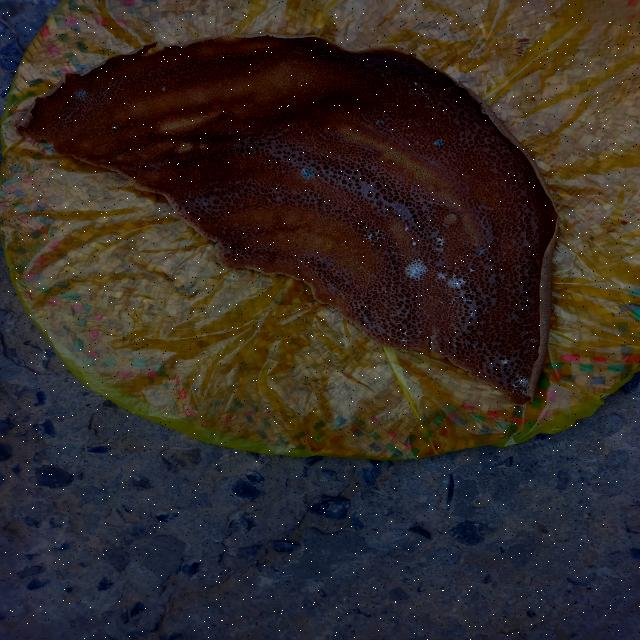injera_mold: (403, 258, 427, 284), (366, 226, 387, 246), (448, 274, 468, 291), (513, 374, 530, 394), (300, 166, 317, 182), (432, 234, 445, 249), (434, 268, 446, 282), (449, 295, 460, 308), (75, 90, 89, 99), (462, 296, 477, 304), (421, 88, 431, 100), (434, 138, 445, 148), (528, 337, 538, 346), (468, 307, 475, 319), (160, 86, 170, 94), (401, 226, 416, 231), (410, 240, 419, 248), (478, 247, 486, 256), (500, 358, 510, 365), (398, 338, 409, 344), (375, 119, 385, 125), (109, 125, 119, 131), (400, 331, 411, 336), (361, 301, 367, 308), (468, 269, 476, 274), (388, 218, 396, 222), (470, 291, 478, 295), (382, 266, 388, 271), (313, 144, 319, 149), (440, 299, 444, 306), (413, 81, 418, 86), (324, 260, 330, 264), (136, 165, 142, 169), (419, 330, 425, 334), (531, 354, 534, 362), (464, 359, 472, 362), (383, 290, 389, 294), (395, 242, 400, 246), (388, 247, 392, 252), (417, 76, 422, 80), (520, 334, 524, 339), (366, 270, 369, 276), (452, 344, 458, 347), (420, 290, 429, 292), (485, 309, 489, 313), (398, 208, 402, 212), (481, 162, 485, 166), (473, 344, 477, 348), (525, 331, 533, 333), (130, 123, 134, 127), (388, 110, 392, 114), (350, 248, 354, 252), (376, 260, 380, 264), (509, 391, 513, 395), (443, 329, 446, 334), (495, 365, 500, 368), (480, 338, 487, 340), (481, 302, 484, 306), (401, 254, 405, 257), (334, 230, 338, 233), (477, 160, 479, 166), (486, 368, 492, 370), (476, 374, 480, 377), (460, 350, 462, 356), (510, 373, 513, 377), (472, 323, 476, 326), (517, 365, 521, 368), (453, 316, 458, 318), (511, 333, 516, 335), (475, 342, 478, 345), (458, 315, 461, 318), (415, 320, 419, 322), (514, 329, 518, 331), (488, 329, 492, 331), (501, 370, 505, 372), (386, 328, 390, 330), (476, 313, 480, 315), (471, 367, 475, 369), (354, 214, 356, 217), (442, 314, 445, 316), (499, 321, 501, 324), (493, 328, 495, 331), (518, 340, 521, 342), (469, 348, 472, 350), (469, 354, 471, 357), (392, 251, 394, 254), (400, 275, 401, 281), (398, 314, 401, 316), (477, 316, 480, 318), (506, 390, 509, 392), (483, 377, 486, 379), (480, 156, 482, 158), (438, 339, 442, 340), (522, 345, 524, 347), (528, 366, 532, 367), (534, 372, 536, 374), (398, 247, 400, 249), (396, 264, 398, 266), (383, 310, 385, 312), (341, 294, 343, 296), (395, 330, 397, 332), (395, 345, 397, 347), (462, 315, 464, 317), (452, 314, 456, 315), (484, 317, 488, 318), (526, 349, 528, 351), (483, 369, 485, 371), (509, 396, 511, 398), (455, 340, 458, 341), (501, 345, 504, 346), (391, 334, 394, 335), (448, 322, 449, 324), (529, 354, 530, 356), (488, 332, 489, 333), (507, 342, 508, 343)
